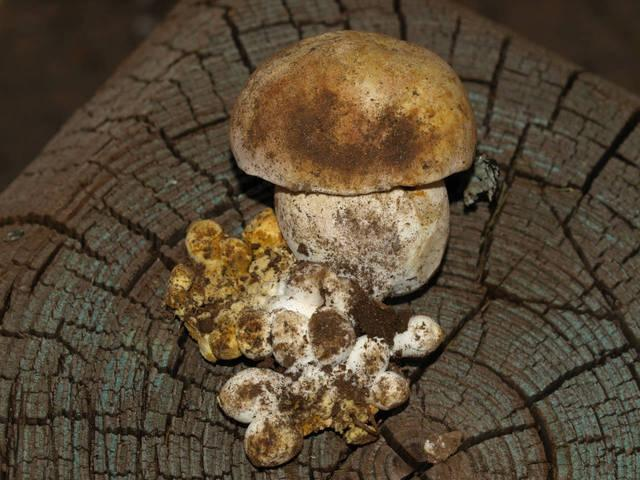edible_mushroom: (176, 210, 434, 477), (227, 28, 478, 300)
